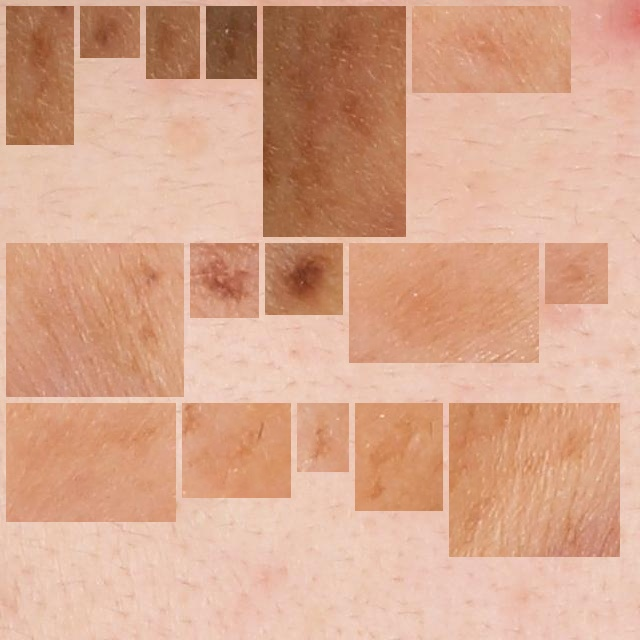melasma: (271, 14, 398, 229), (14, 251, 176, 389), (457, 411, 612, 549), (357, 251, 531, 355), (14, 411, 168, 514), (420, 14, 563, 85), (190, 411, 283, 490), (363, 411, 435, 503), (14, 14, 66, 137), (273, 251, 335, 307), (198, 251, 251, 310), (154, 14, 192, 71), (553, 251, 600, 296), (214, 14, 249, 71), (305, 411, 341, 464), (88, 14, 132, 50)
